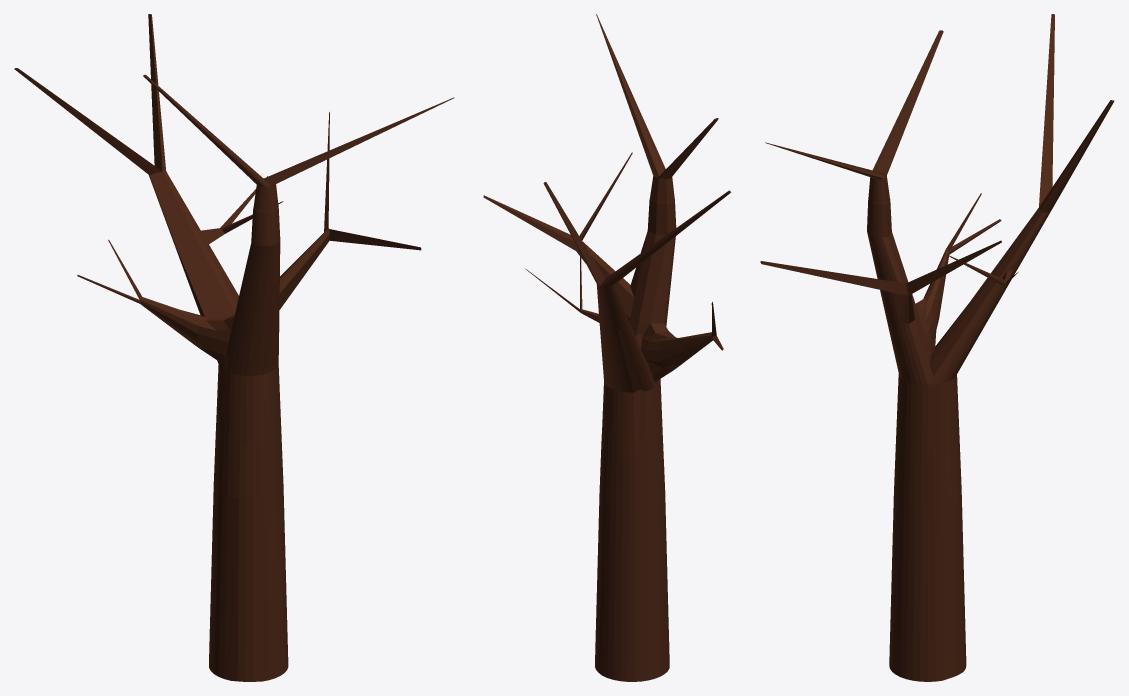
File: tree.glb
The picture shows the model from 3 angles, left to right: view 1: azimuth 30°, elevation 25°; view 2: azimuth 150°, elevation 25°; view 3: azimuth 270°, elevation 25°; orthographic projection. The views are drawn at different scales.
Parts seen in each view (by area): view 1: Cylinder; view 2: Cylinder; view 3: Cylinder.
Part boxes in pixels (x1,y1,x2,y2): Cylinder: (14, 14, 454, 681); Cylinder: (483, 14, 731, 681); Cylinder: (760, 14, 1114, 681).
Bounding box in the file's own units: 3.27 × 6.52 × 3.56.
